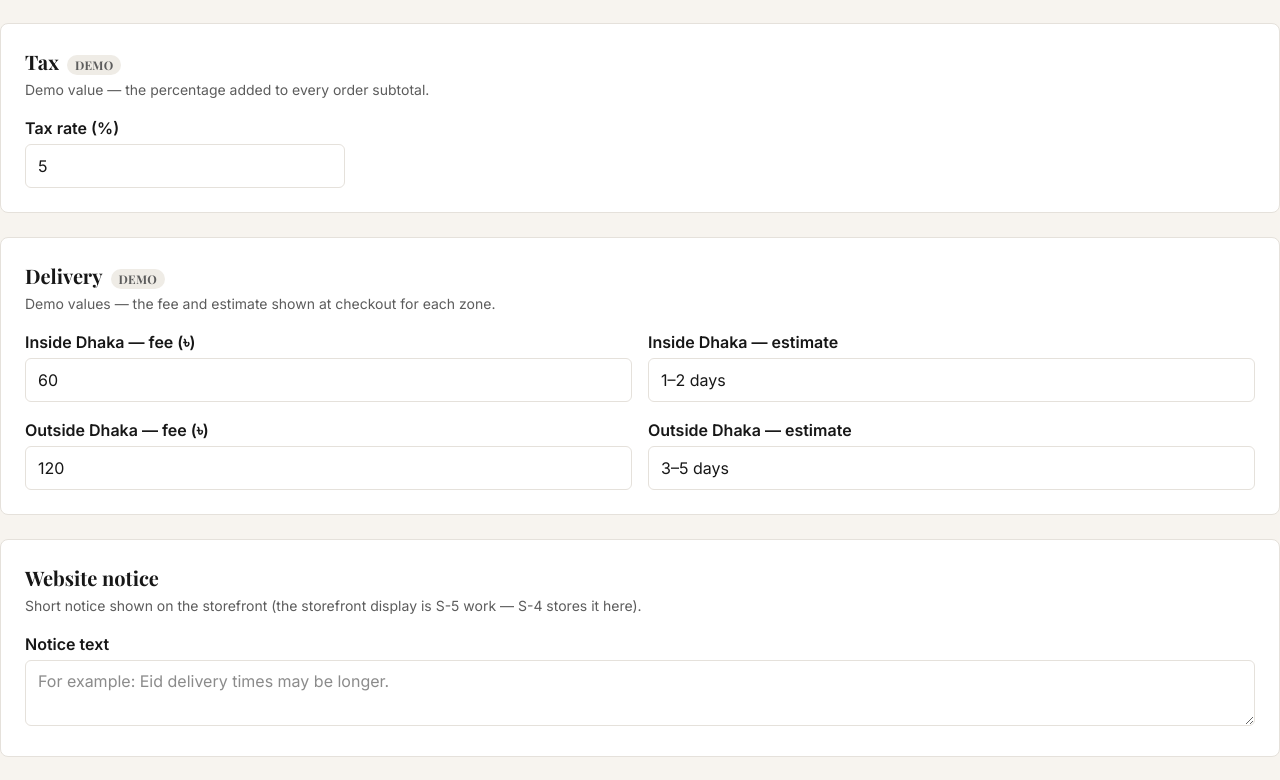
Test: SettingsForm › lists a delivery-fee change with the Taka amount
The width and height of the screenshot is (1280, 780).
(page scrolled)
Replace the text in the number field labelled "Inside Dhaka — fee (৳)" with "80" at (328, 380), box 25,358 -> 632,402
(page scrolled)
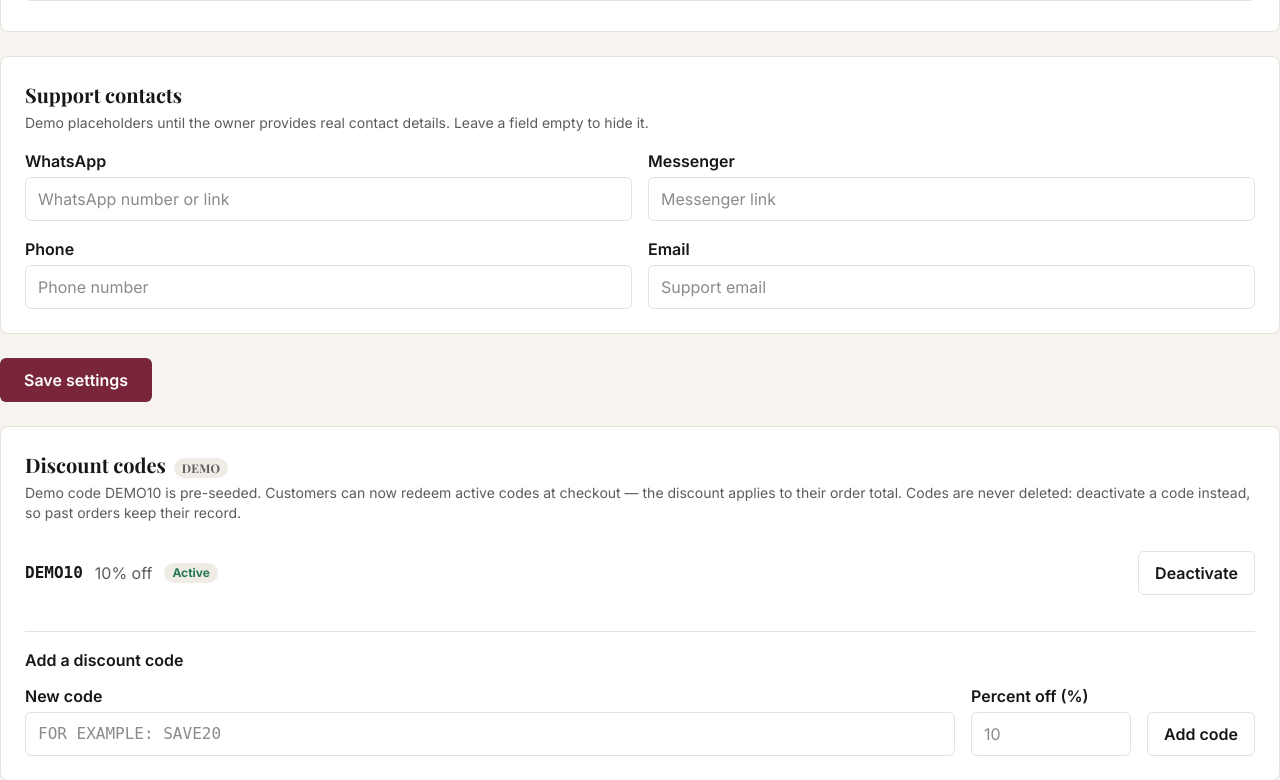
Click the button "Save settings".
click(76, 380)  # box 0,358 -> 152,402
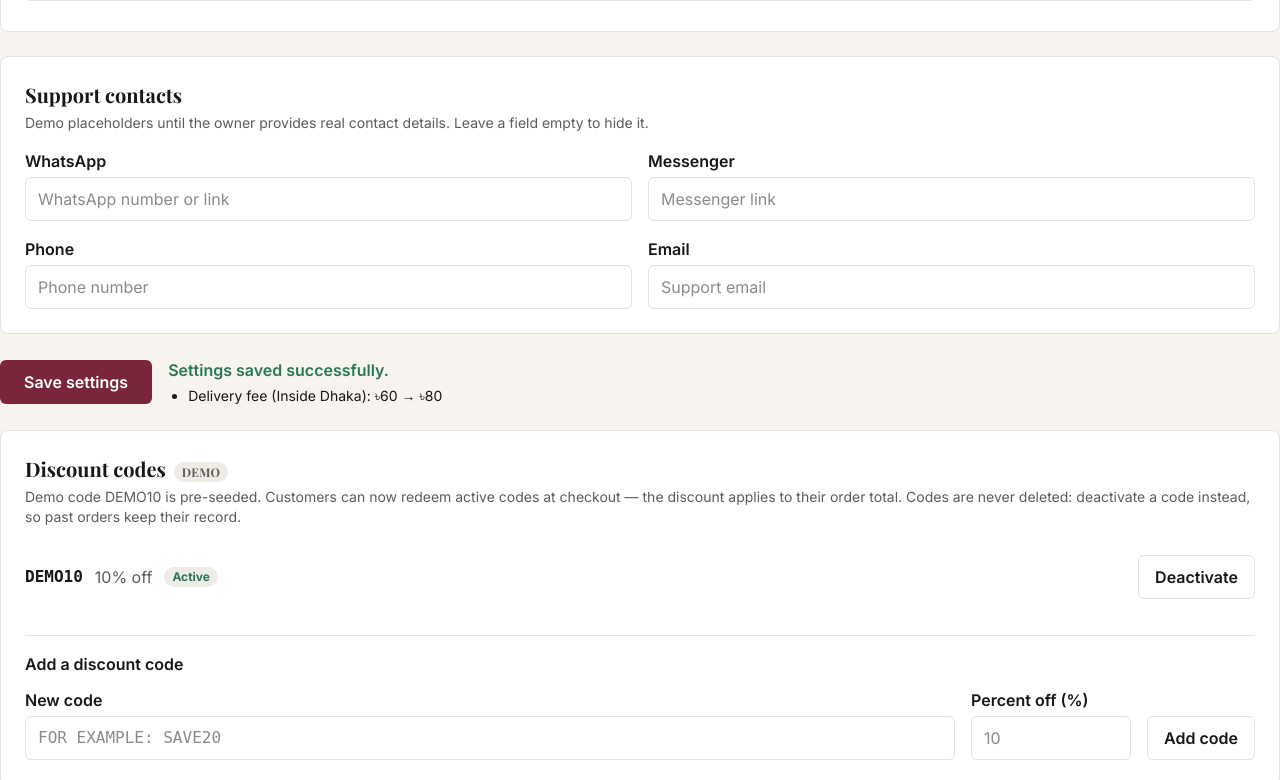
Expected: the text "Settings saved successfully." is shown, 168,360 -> 389,380
Expected: the list item "Delivery fee (Inside Dhaka): ৳60 → ৳80" is shown, 188,386 -> 442,406
